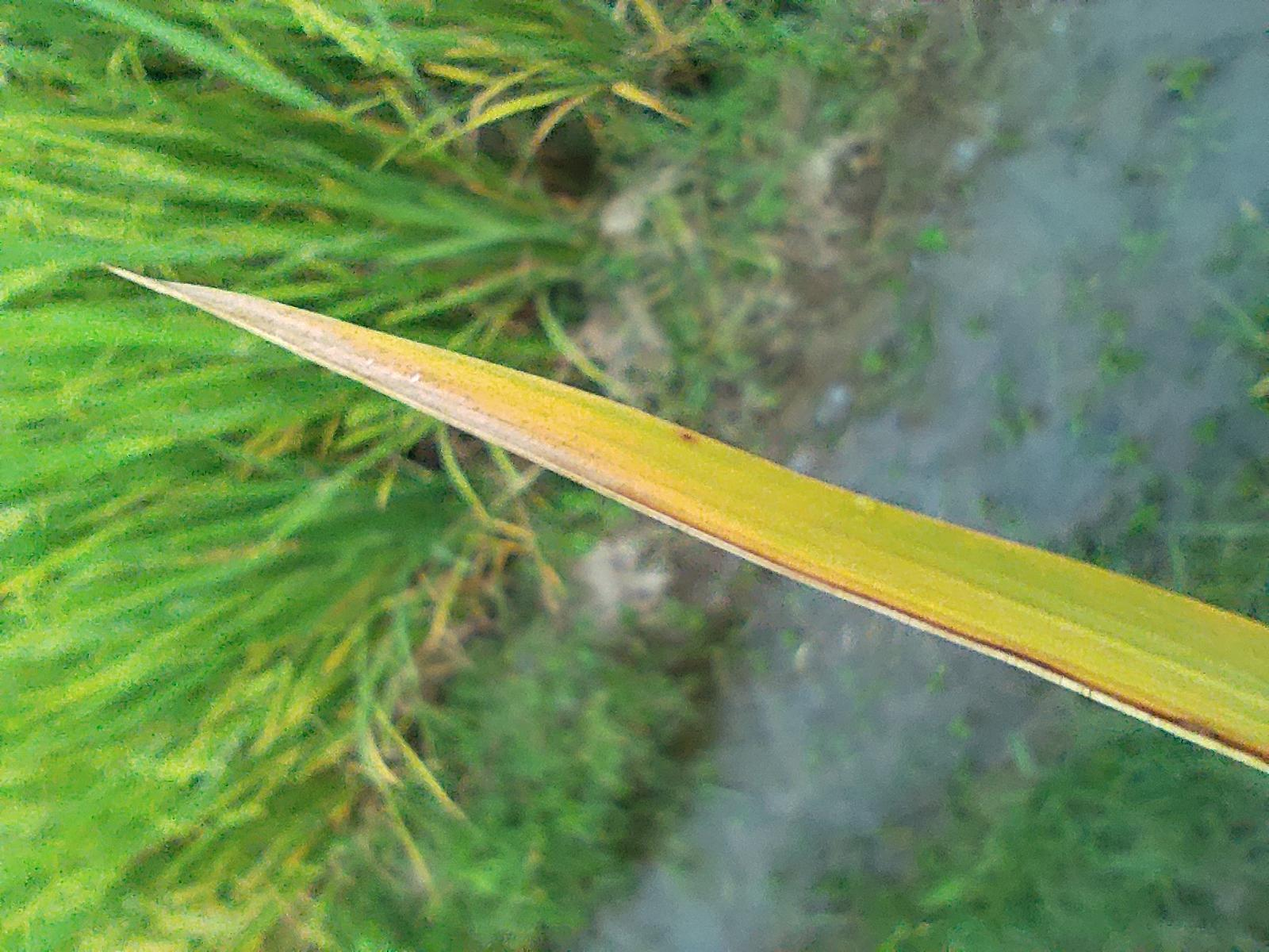BLB: (241, 80, 915, 951)
LEAF: (240, 78, 916, 951)
